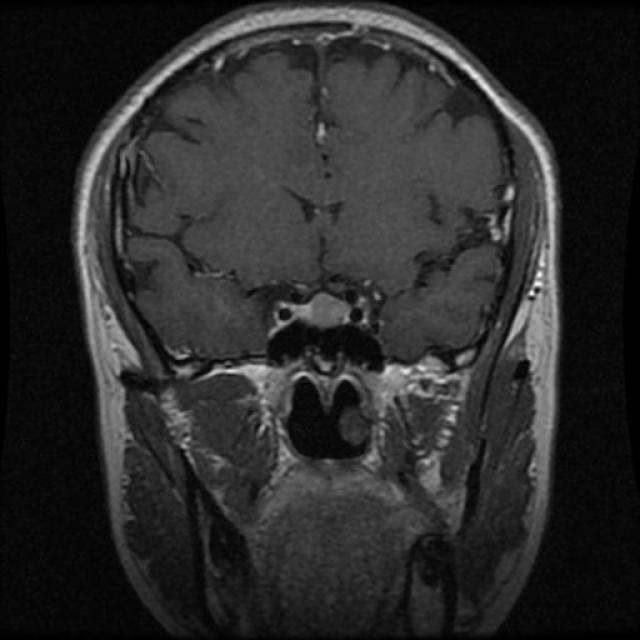pituitary: (264, 288, 390, 373)
